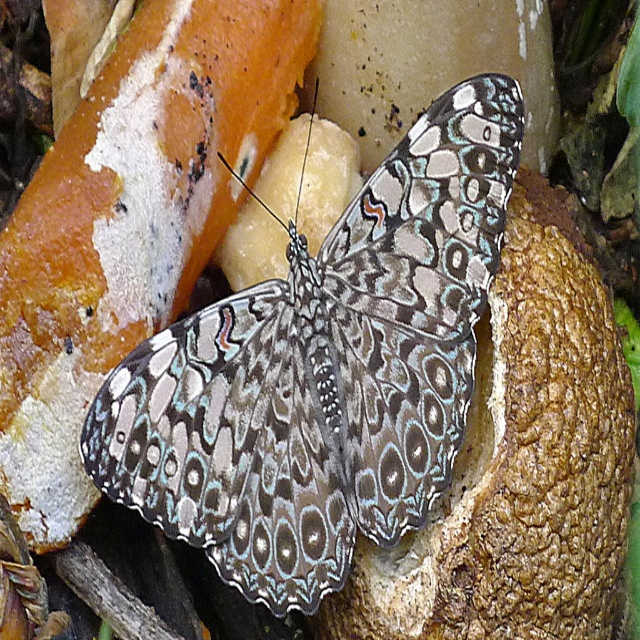Butterfly: (90, 72, 532, 594)
